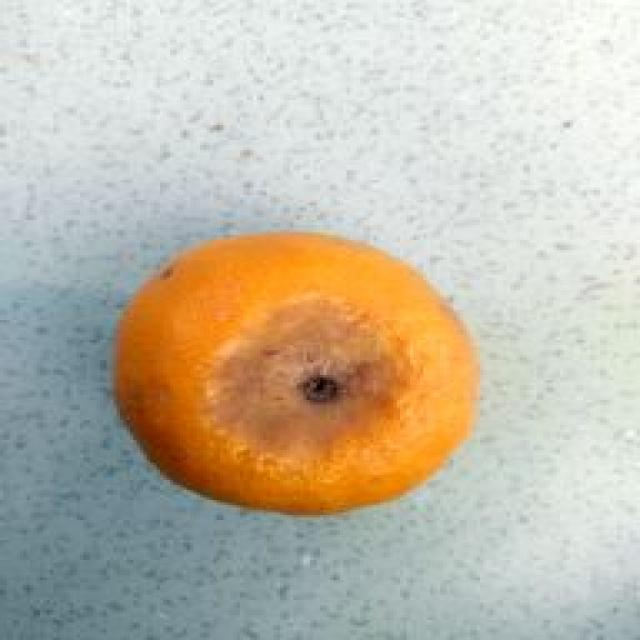Bad_Orange: (115, 232, 478, 513)
